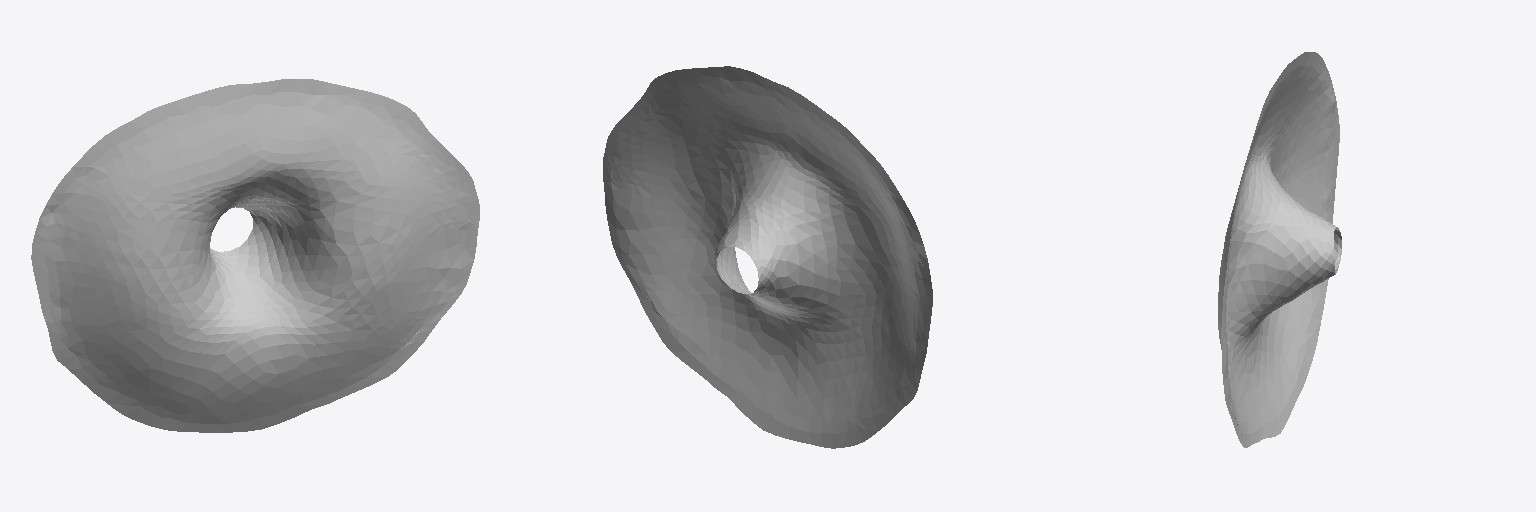
The model's file is flower5_opt_deformed.obj.
The picture shows the model from 3 angles: view 1: azimuth 30°, elevation 25°; view 2: azimuth 150°, elevation 25°; view 3: azimuth 270°, elevation 25°; orthographic projection.
Visible parts, largest first — view 1: samples/flower5_opt_deformed; view 2: samples/flower5_opt_deformed; view 3: samples/flower5_opt_deformed.
Part boxes in pixels (x1,y1,x2,y2): samples/flower5_opt_deformed: (31,79,479,432); samples/flower5_opt_deformed: (603,66,932,448); samples/flower5_opt_deformed: (1218,52,1341,447).
Bounding box in the file's own units: 64.84 × 55.8 × 17.96.